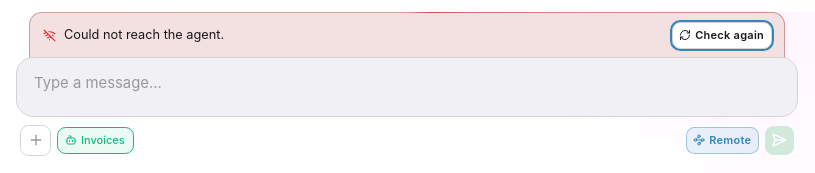
Scenario: composer readiness refusal › hands focus to the message box when Check again clears the refusal and removes itself
Click the button "Check again": (722, 35) [672, 22, 772, 48]
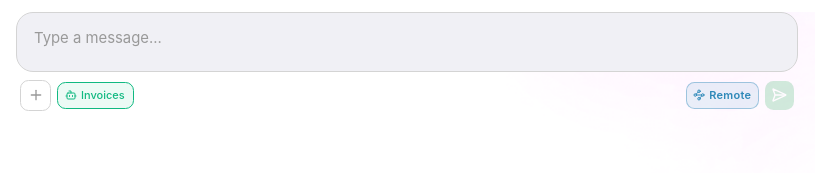
Expected: the text "Could not reach the agent." is gone
